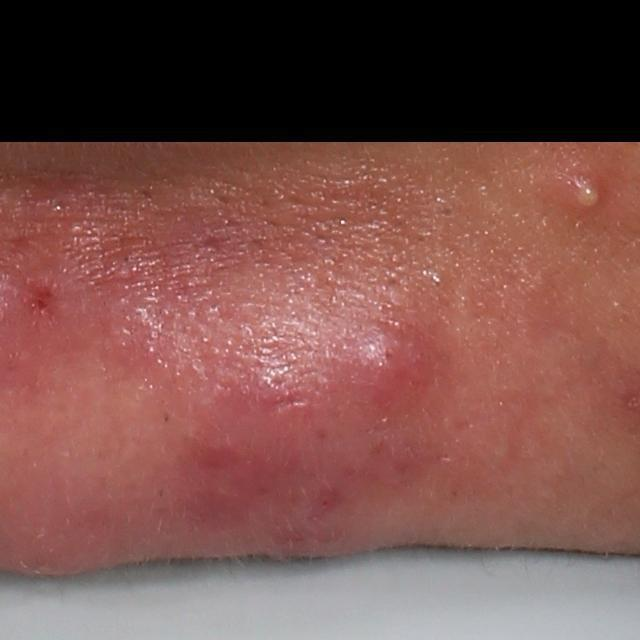comedo: (435, 200, 457, 223)
pustule: (554, 151, 620, 218)
